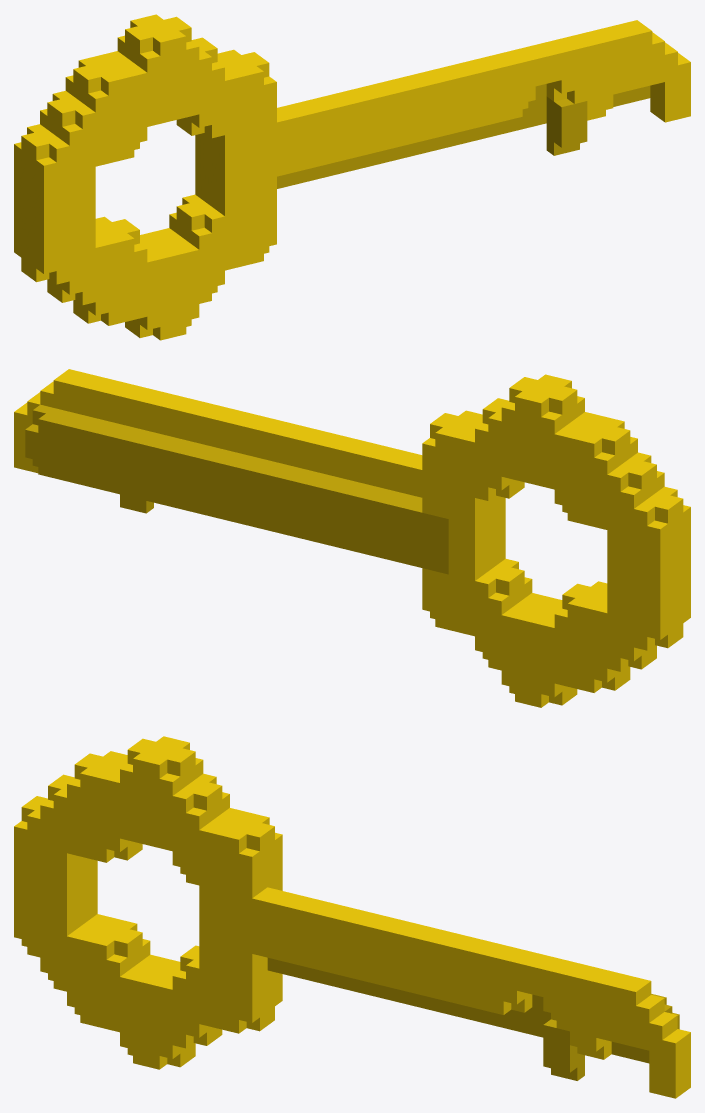
The model's file is key1HD.glb.
The picture shows the model from 3 angles, top to bottom: view 1: azimuth 30°, elevation 25°; view 2: azimuth 150°, elevation 25°; view 3: azimuth 330°, elevation 25°; orthographic projection. The views are drawn at different scales.
Visible parts, largest first — view 1: Untitled; view 2: Untitled; view 3: Untitled.
Boxes of the visible parts, box(x1,y1,x2,y2) form: Untitled: box(14, 14, 690, 340); Untitled: box(14, 369, 690, 707); Untitled: box(14, 736, 690, 1098).
Size of the model in its own units: 5 by 2.2 by 0.4.
1 material, 1 textured.
